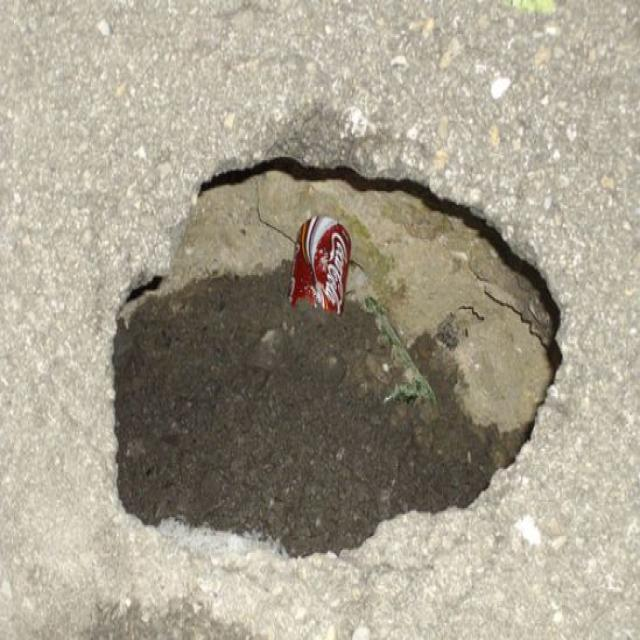pothole: (96, 140, 564, 566)
